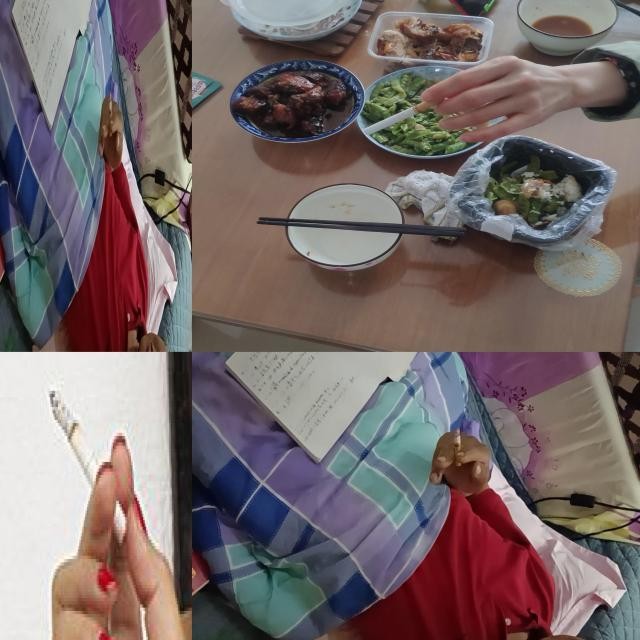cigarette: (49, 386, 128, 548), (364, 96, 447, 136), (454, 428, 461, 467), (108, 90, 112, 138)
